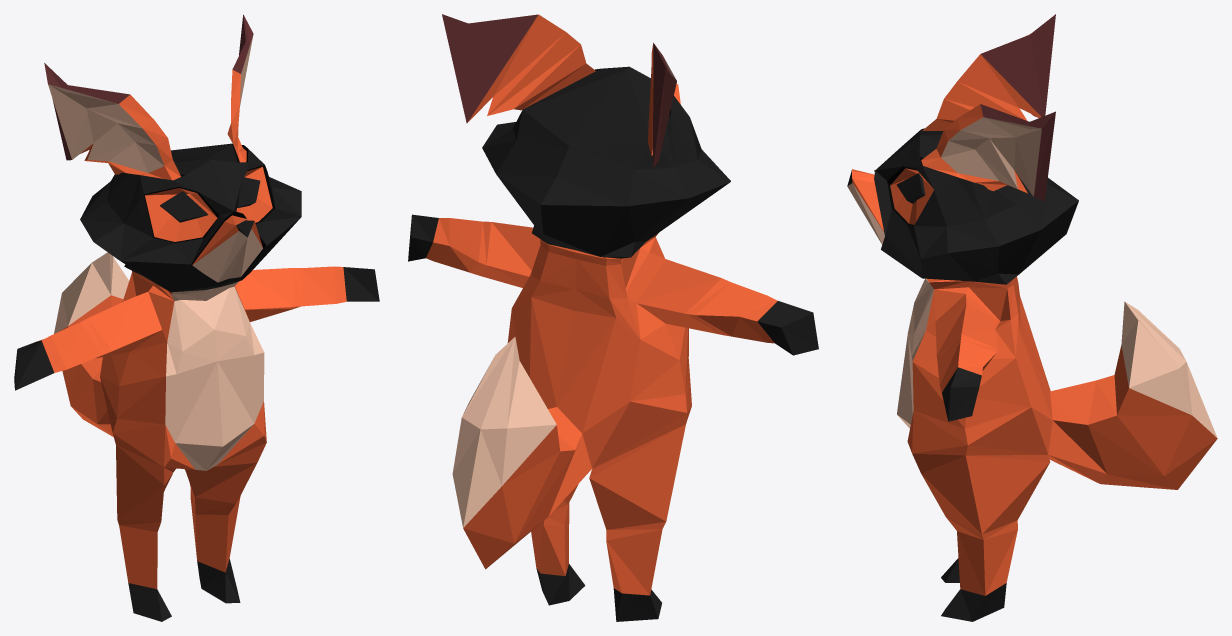
The model's file is fox.fbx.
3 views of the same model, side by side, from view 1: azimuth 30°, elevation 25°; view 2: azimuth 150°, elevation 25°; view 3: azimuth 270°, elevation 25° (orthographic). The views are drawn at different scales.
Visible parts, largest first — view 1: Cube.001; view 2: Cube.001; view 3: Cube.001.
Boxes of the visible parts, x1,y1,x2,y2 form: Cube.001: (14,14,379,621); Cube.001: (408,14,818,621); Cube.001: (847,14,1217,621).
Size of the model in its own units: 145 by 202 by 127.
